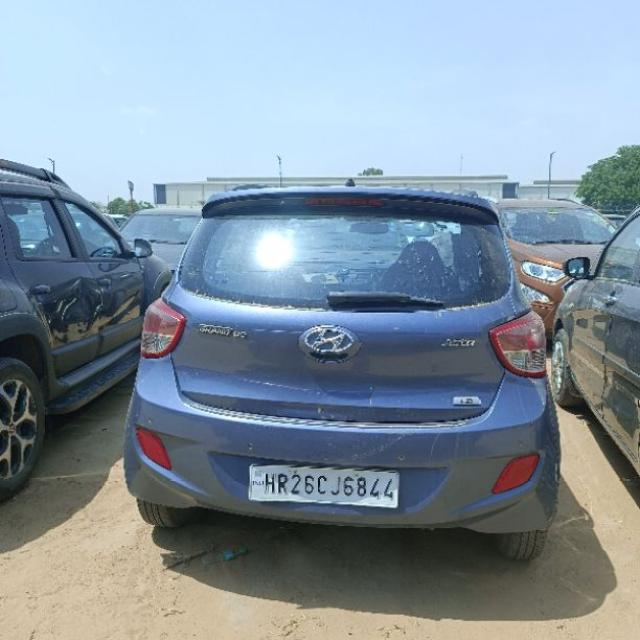license_plate: (247, 462, 400, 508)
